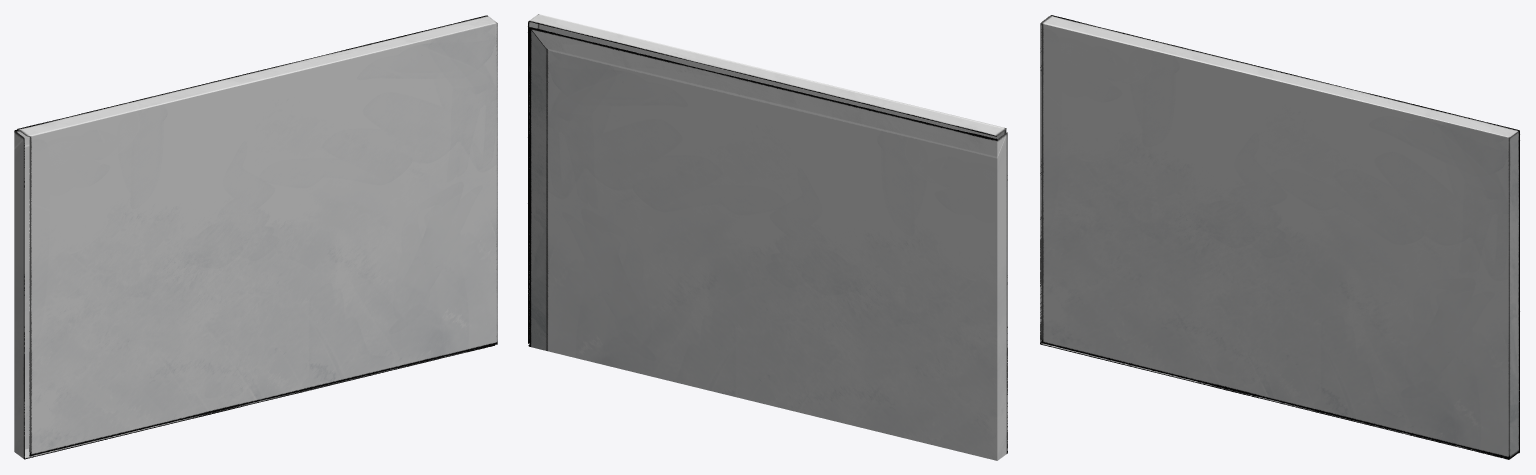
3 renders of one model, left to right at view 1: azimuth 30°, elevation 25°; view 2: azimuth 150°, elevation 25°; view 3: azimuth 330°, elevation 25°, orthographic.
Visible parts, largest first — view 1: 立方体; view 2: 立方体; view 3: 立方体.
Part boxes in pixels (x1=…): 立方体: x1=14, y1=15, x2=497, y2=459; 立方体: x1=528, y1=14, x2=1007, y2=460; 立方体: x1=1040, y1=15, x2=1519, y2=459.
Bounding box in the file's own units: 3034 × 1990 × 135.
1 material, 1 textured.
